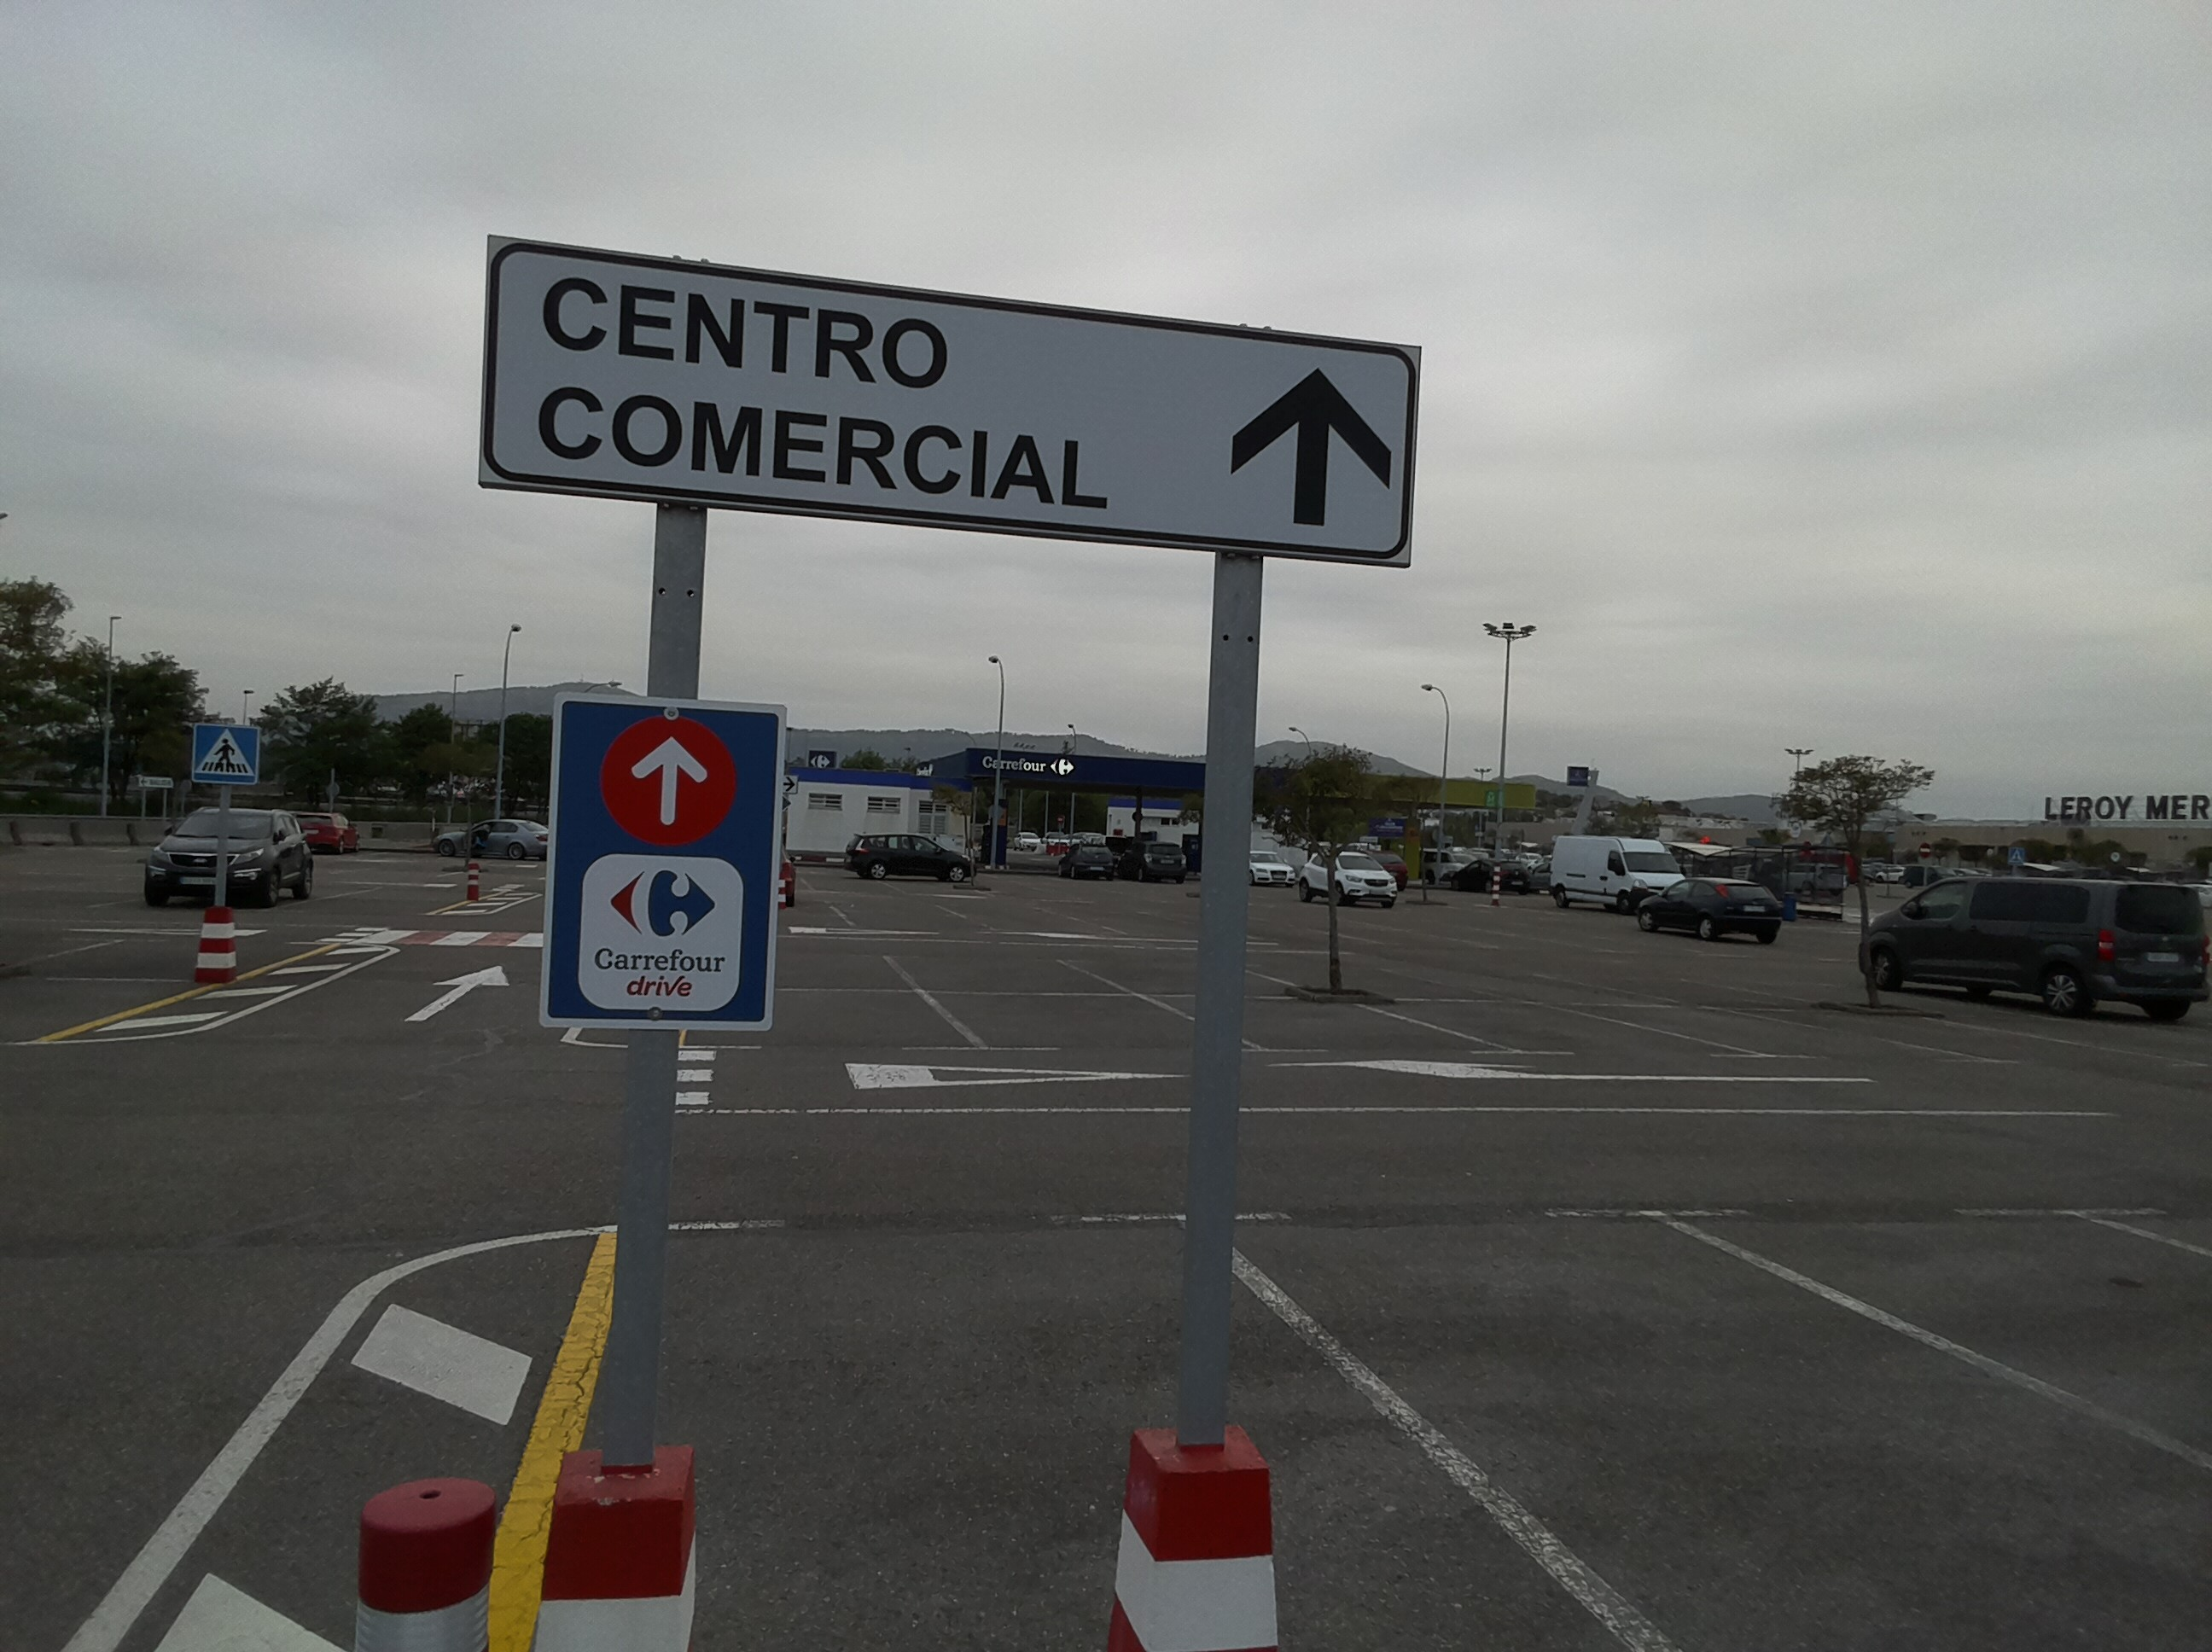Cartel: (467, 241, 1426, 566), (543, 687, 789, 1048)
Poste: (614, 479, 708, 1480), (1180, 552, 1256, 1463)
